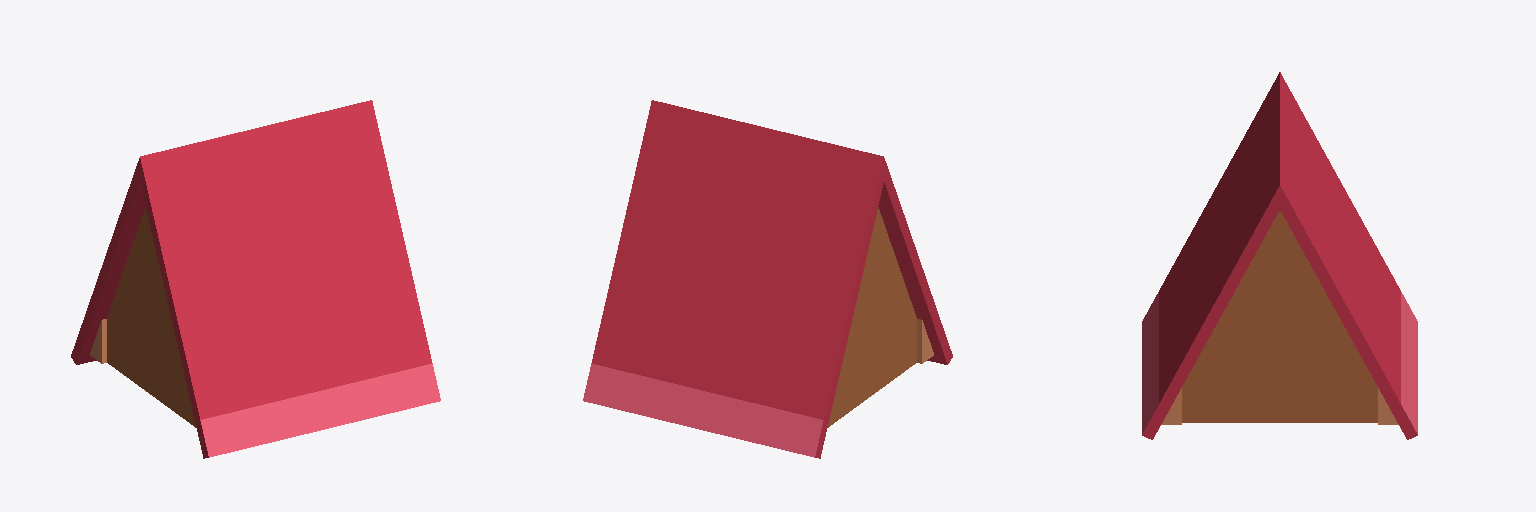
Rendered from roofHighGable.obj.
3 views of the same model, side by side, from view 1: azimuth 30°, elevation 25°; view 2: azimuth 150°, elevation 25°; view 3: azimuth 270°, elevation 25° (orthographic).
Visible parts, largest first — view 1: roofHighGable; view 2: roofHighGable; view 3: roofHighGable.
Part boxes in pixels (bbox=[...]): roofHighGable: bbox=[71, 100, 440, 458]; roofHighGable: bbox=[583, 100, 952, 458]; roofHighGable: bbox=[1142, 72, 1417, 439].
Size of the model in its own units: 1.1 by 1.16 by 1.13.